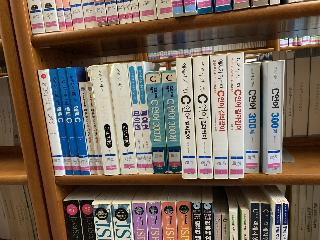book-spine: (90, 64, 120, 175), (109, 63, 138, 174), (38, 68, 66, 177), (66, 66, 91, 176), (57, 67, 82, 176), (49, 68, 73, 176), (192, 55, 213, 178), (176, 58, 197, 179), (145, 71, 167, 174), (211, 54, 229, 179), (265, 60, 284, 175), (162, 70, 183, 173), (227, 52, 244, 179), (127, 62, 146, 175), (135, 61, 154, 173), (244, 63, 261, 173), (78, 81, 97, 175), (85, 81, 104, 175)
